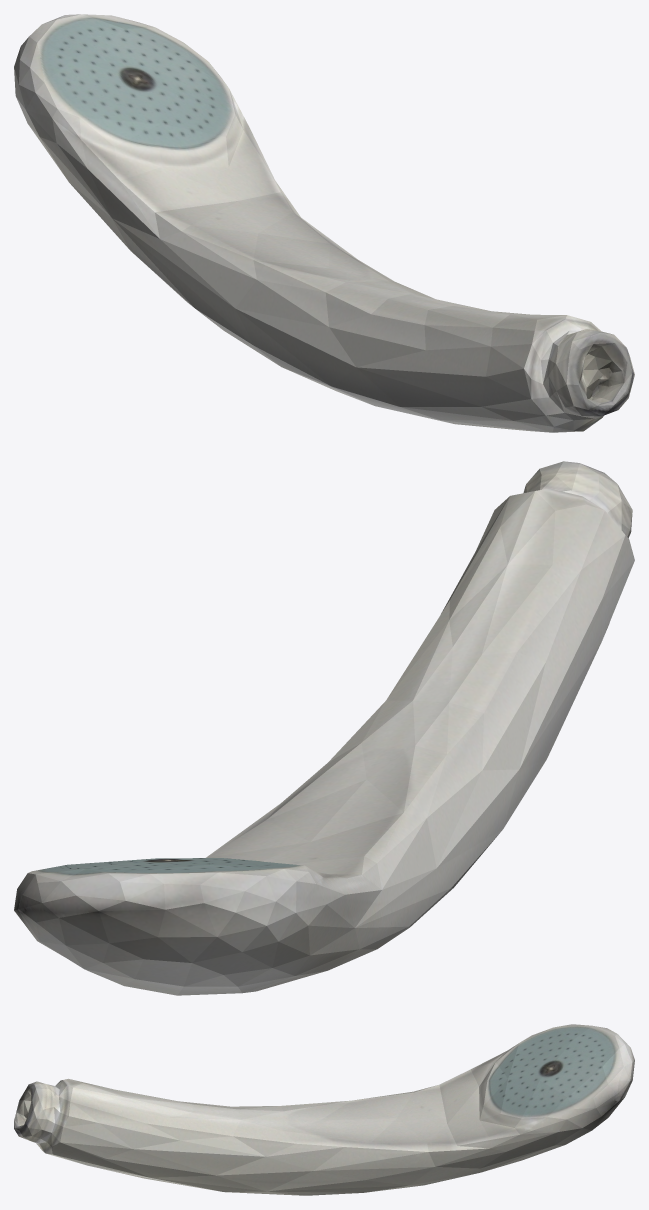
The model's file is export-small.obj.
The picture shows the model from 3 angles, top to bottom: view 1: azimuth 30°, elevation 25°; view 2: azimuth 150°, elevation 25°; view 3: azimuth 270°, elevation 25°; orthographic projection. The views are drawn at different scales.
Bounding box in the file's own units: 55.87 × 48.1 × 206.
Materials: 1 (1 with a texture image).
